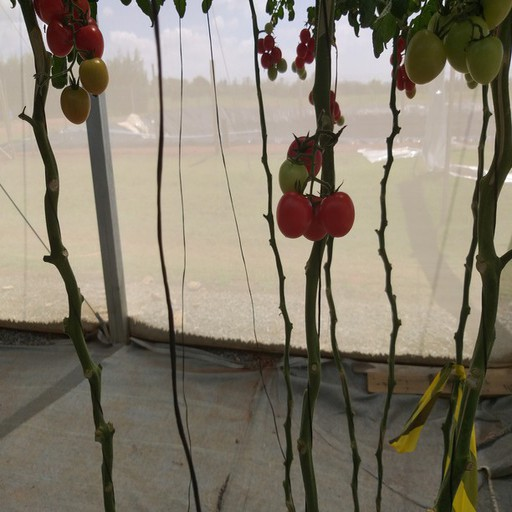green tomato bunch: (405, 1, 510, 84)
red tomato bunch: (33, 1, 108, 126), (275, 135, 358, 243), (390, 31, 415, 97), (307, 87, 343, 130), (255, 36, 287, 81), (290, 28, 318, 77)
